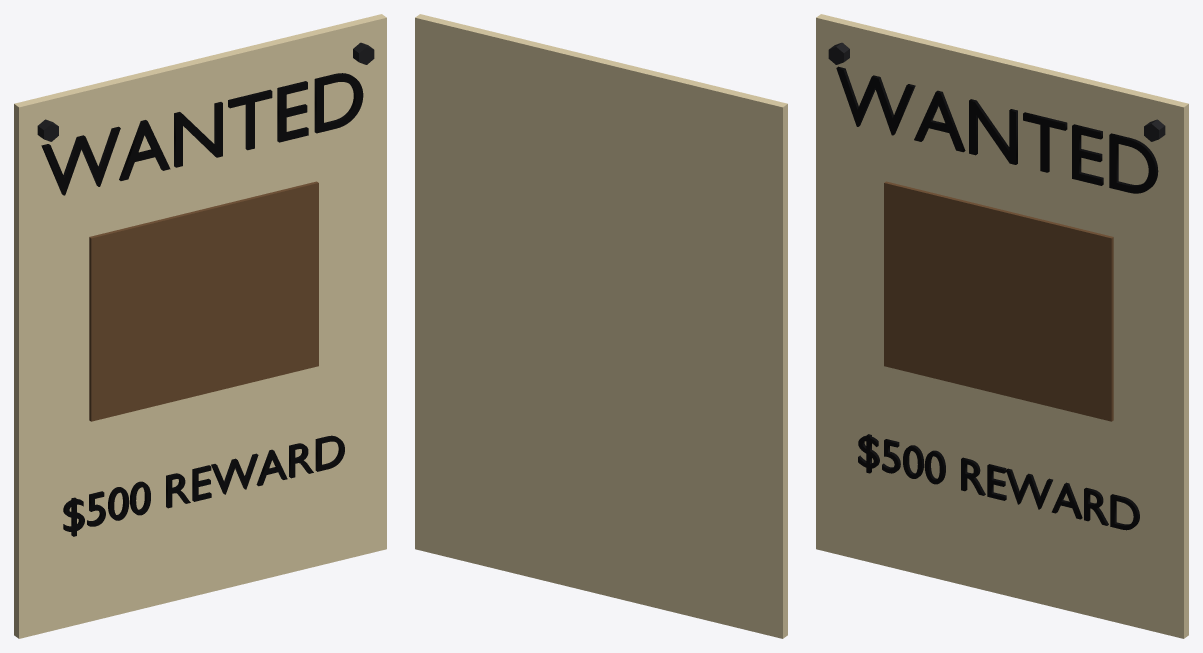
File: SM_Wanted_Poster.obj
The picture shows the model from 3 angles, left to right: view 1: azimuth 30°, elevation 25°; view 2: azimuth 150°, elevation 25°; view 3: azimuth 330°, elevation 25°; orthographic projection.
Visible parts, largest first — view 1: SM_Wanted_Poster; view 2: SM_Wanted_Poster; view 3: SM_Wanted_Poster.
Part boxes in pixels (left/top/right/bottom): SM_Wanted_Poster: left=14, top=14, right=386, bottom=638; SM_Wanted_Poster: left=415, top=14, right=787, bottom=638; SM_Wanted_Poster: left=816, top=14, right=1188, bottom=638.
Size of the model in its own units: 0.42 by 0.58 by 0.022.
